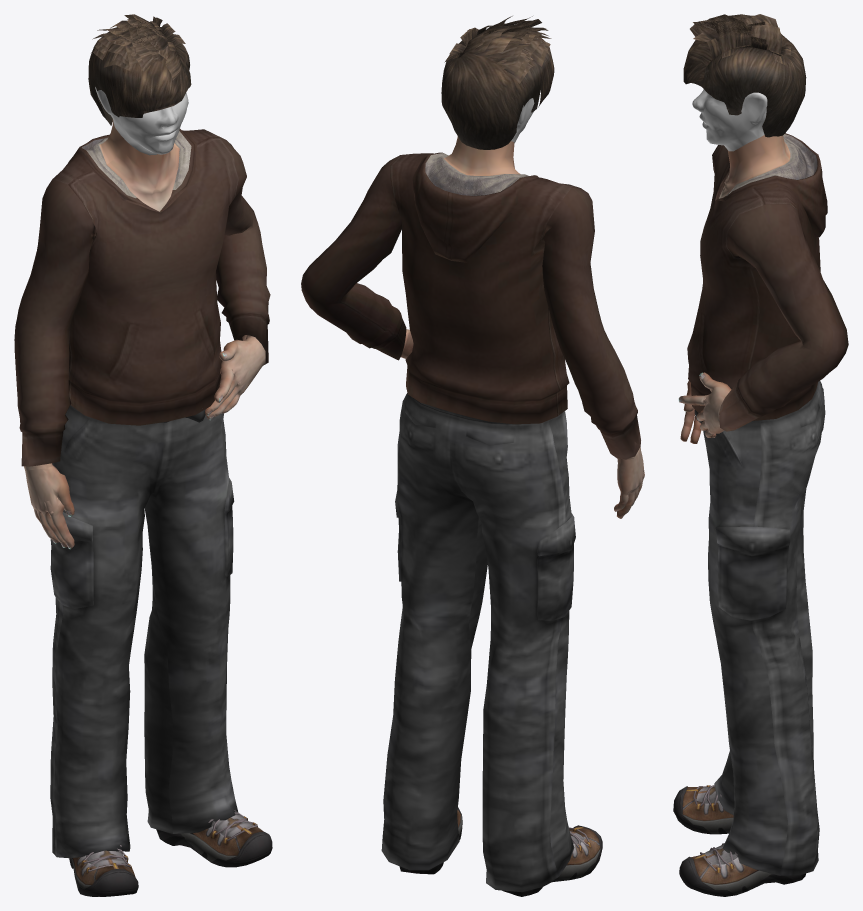
Rendered from boyStanding.obj.
3 renders of one model, left to right at view 1: azimuth 30°, elevation 25°; view 2: azimuth 150°, elevation 25°; view 3: azimuth 270°, elevation 25°, orthographic. The views are drawn at different scales.
Parts seen in each view (by area): view 1: RL_Lower.002, RL_Upper.002, RL_HairMesh.002, RL_Shoes.002, RL_Hands.002, RL_Face.002; view 2: RL_Lower.002, RL_Upper.002, RL_HairMesh.002, RL_Shoes.002, RL_Hands.002; view 3: RL_Lower.002, RL_Upper.002, RL_HairMesh.002, RL_Shoes.002, RL_Face.002, RL_Hands.002.
Part boxes in pixels (x1,y1,x2,y2): RL_Lower.002: (50, 405, 238, 858); RL_Upper.002: (14, 119, 270, 470); RL_HairMesh.002: (88, 14, 191, 125); RL_Shoes.002: (69, 810, 272, 896); RL_Hands.002: (25, 339, 263, 549); RL_Face.002: (95, 87, 188, 155); RL_Lower.002: (381, 393, 575, 892); RL_Upper.002: (301, 136, 640, 459); RL_HairMesh.002: (441, 16, 554, 149); RL_Shoes.002: (399, 807, 602, 896); RL_Hands.002: (401, 329, 644, 518); RL_Lower.002: (694, 381, 825, 875); RL_Upper.002: (687, 133, 848, 431); RL_HairMesh.002: (683, 14, 806, 137); RL_Shoes.002: (673, 785, 805, 896); RL_Face.002: (692, 89, 767, 151); RL_Hands.002: (678, 372, 731, 443).
Bounding box in the file's own units: 56.87 × 162 × 31.07.
